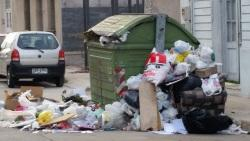Dechets: (160, 45, 241, 133), (0, 90, 97, 132), (153, 87, 186, 134), (136, 74, 161, 130), (95, 100, 136, 128), (143, 51, 171, 85), (118, 74, 142, 108), (185, 40, 215, 63), (61, 87, 90, 105), (38, 112, 75, 126), (5, 90, 30, 110), (20, 81, 43, 100), (128, 110, 140, 130)
Trash: (84, 14, 199, 104)
